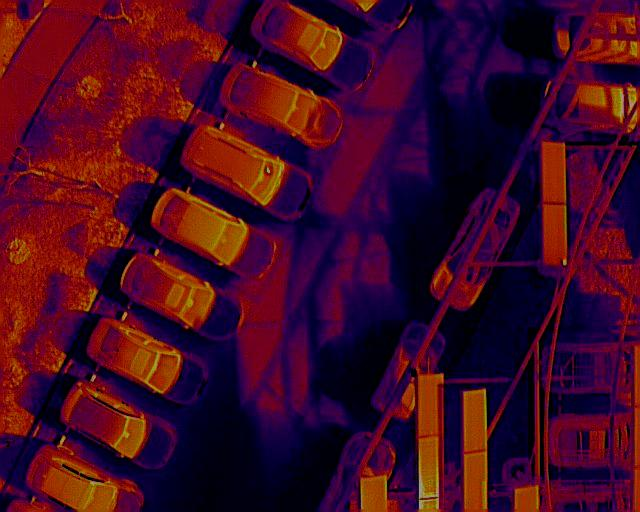Cell: (543, 204, 567, 265)
No-Anomaly: (464, 450, 488, 512), (464, 391, 488, 452), (542, 142, 565, 203), (417, 372, 438, 435)
Unclassified: (418, 434, 439, 499)
